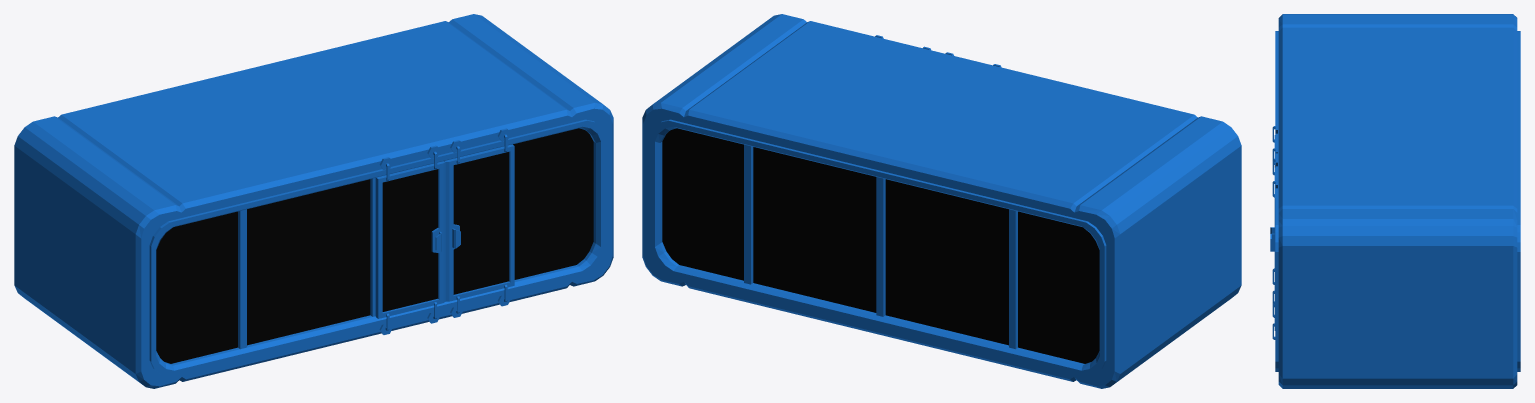
File: HALF_temporary_housing.fbx
3 renders of one model, left to right at view 1: azimuth 30°, elevation 25°; view 2: azimuth 150°, elevation 25°; view 3: azimuth 270°, elevation 25°, orthographic. The views are drawn at different scales.
Parts seen in each view (by area): view 1: Symmetry_14, Cube_1, Symmetry; view 2: Symmetry_14; view 3: Symmetry_14, Symmetry, Cube_1.
Part boxes in pixels (x1=…): Symmetry_14: x1=14, y1=14, x2=613, y2=388; Cube_1: x1=375, y1=145, x2=445, y2=334; Symmetry: x1=445, y1=128, x2=514, y2=317; Symmetry_14: x1=642, y1=14, x2=1241, y2=388; Symmetry_14: x1=1275, y1=14, x2=1520, y2=388; Symmetry: x1=1270, y1=153, x2=1277, y2=339; Cube_1: x1=1270, y1=120, x2=1277, y2=307.
Size of the model in its own units: 700 by 250 by 334.
